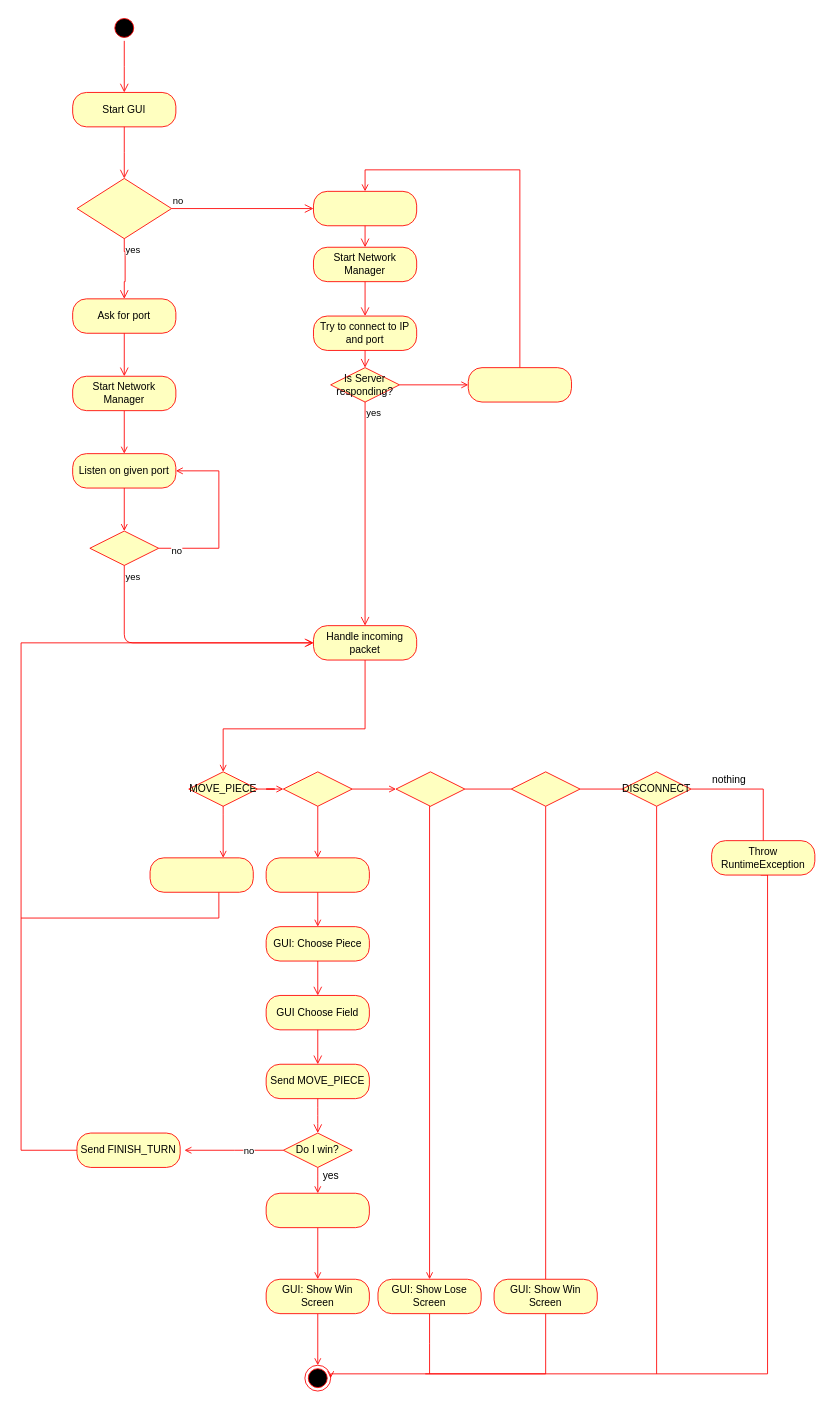
This 830x1406 diagram has some shape labels left out. Each missing label, with the centre of its shape:
"Ask for IP address and port" goes at (365,208).
"Begin my turn" goes at (317,874).
"Client connected?" goes at (124,547).
"FINISH_TURN" goes at (317,788).
"Host game?" goes at (124,208).
"LOOSE_GAME" goes at (545,788).
"Move Piece on Board" goes at (201,874).
"Send WIN_GAME" goes at (317,1210).
"Show error message" goes at (519,384).
"WIN_GAME" goes at (430,788).
